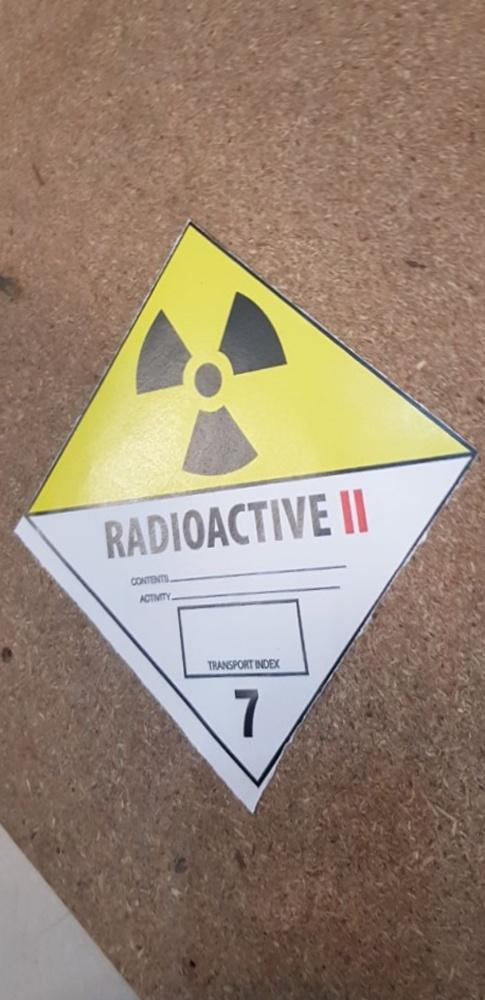radioactive: (3, 222, 485, 824)
